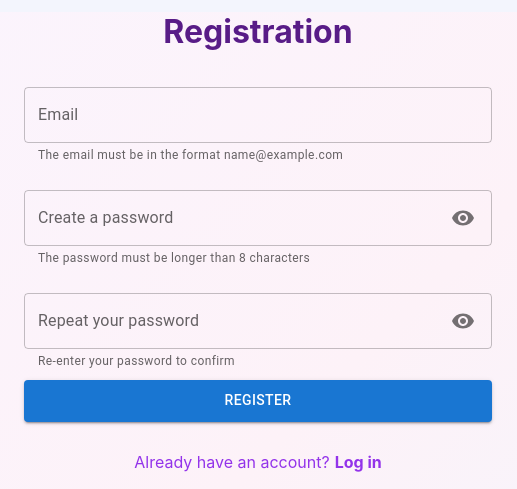
Scenario: RegistrationForm › shows validation error when passwords do not match
Type "test@example.com" into the field labelled "Email" at (258, 115), box x1=24 y1=87 x2=492 y2=143
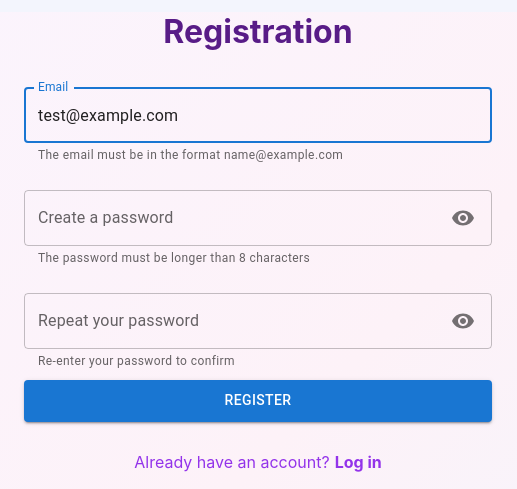
Type "password123!" into the password field labelled "Create a password" at (230, 218), box x1=24 y1=190 x2=435 y2=246
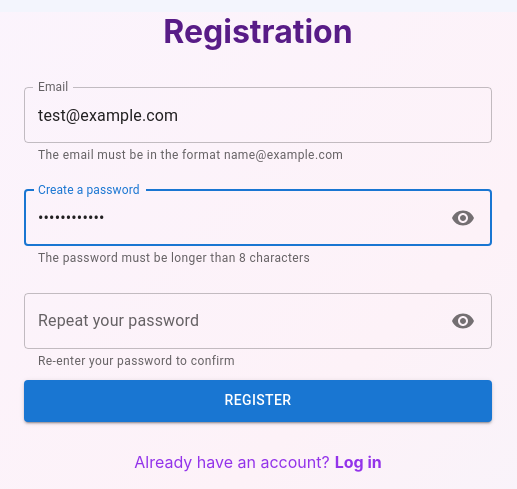
Type "password123?" into the password field labelled "Repeat your password" at (230, 321), box x1=24 y1=293 x2=435 y2=349
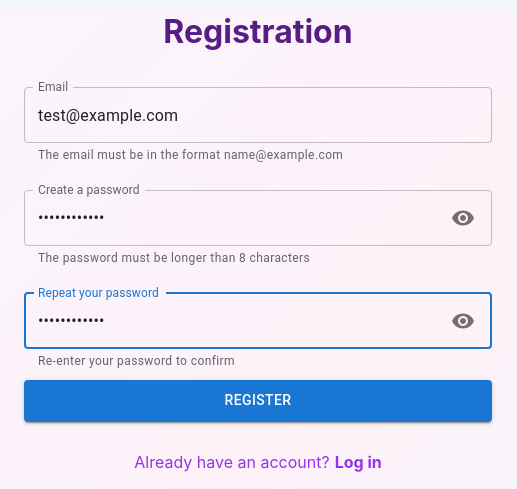
Click the button "Register" at (258, 401), box x1=24 y1=380 x2=492 y2=422
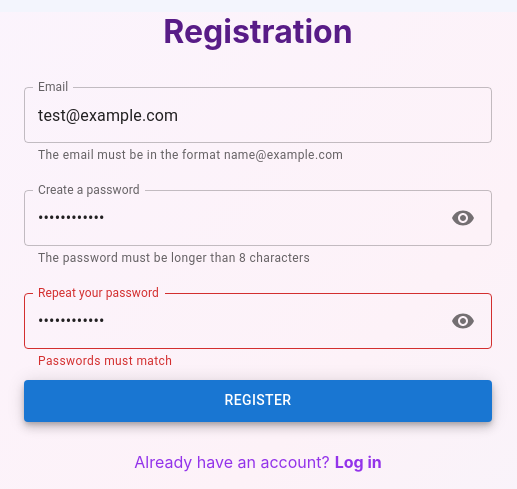
expect the text "Passwords must match" is shown: met, box x1=38 y1=354 x2=172 y2=368
